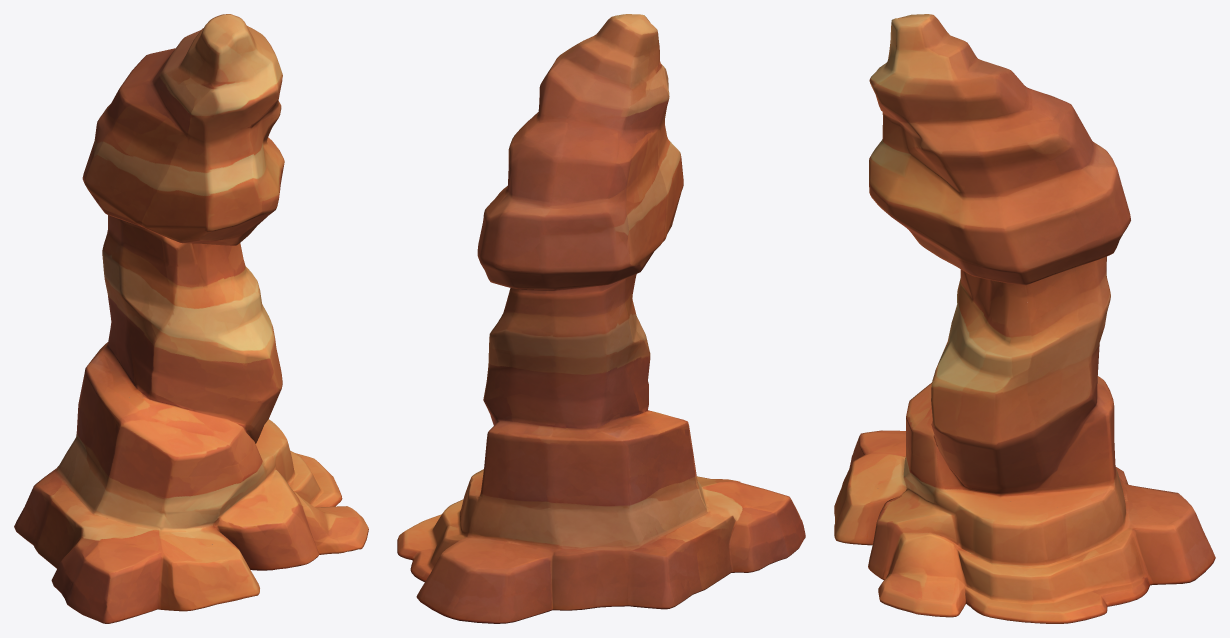
File: canyon-rock-2.glb
3 views of the same model, side by side, from view 1: azimuth 30°, elevation 25°; view 2: azimuth 150°, elevation 25°; view 3: azimuth 270°, elevation 25° (orthographic). The views are drawn at different scales.
Visible parts, largest first — view 1: tripo_5dcd28f1_3163_4a96_b3c8_1a5a91af2cf8; view 2: tripo_5dcd28f1_3163_4a96_b3c8_1a5a91af2cf8; view 3: tripo_5dcd28f1_3163_4a96_b3c8_1a5a91af2cf8.
Part boxes in pixels (box(x1,y1,x2,y2)): tripo_5dcd28f1_3163_4a96_b3c8_1a5a91af2cf8: box(14, 14, 368, 623); tripo_5dcd28f1_3163_4a96_b3c8_1a5a91af2cf8: box(397, 14, 805, 623); tripo_5dcd28f1_3163_4a96_b3c8_1a5a91af2cf8: box(834, 14, 1215, 623).
Bounding box in the file's own units: 0.6401 × 0.9995 × 0.6499.
Materials: 1 (1 with a texture image).
